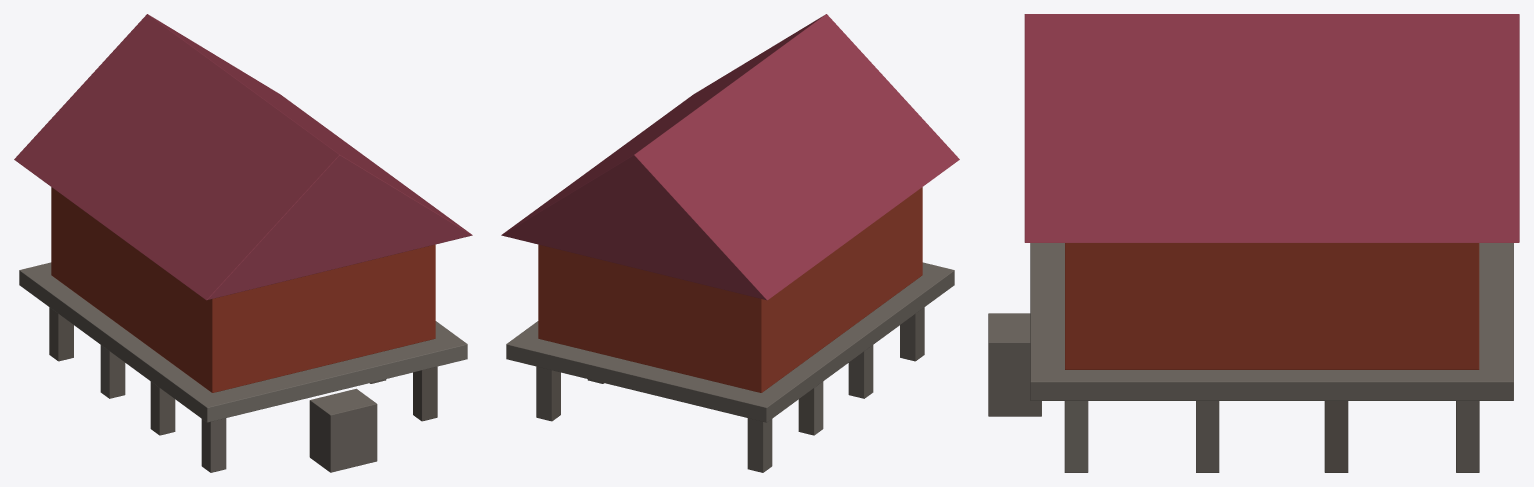
File: House_Meso_d.fbx
3 renders of one model, left to right at view 1: azimuth 30°, elevation 25°; view 2: azimuth 150°, elevation 25°; view 3: azimuth 270°, elevation 25°, orthographic. The views are drawn at different scales.
Visible parts, largest first — view 1: House_Meso_d; view 2: House_Meso_d; view 3: House_Meso_d.
Boxes of the visible parts, left/top/right/bottom form: House_Meso_d: left=14, top=14, right=472, bottom=472; House_Meso_d: left=501, top=14, right=959, bottom=472; House_Meso_d: left=988, top=14, right=1519, bottom=472.
Size of what is drawn, in the model's own units: 3.69 by 4 by 4.96.
